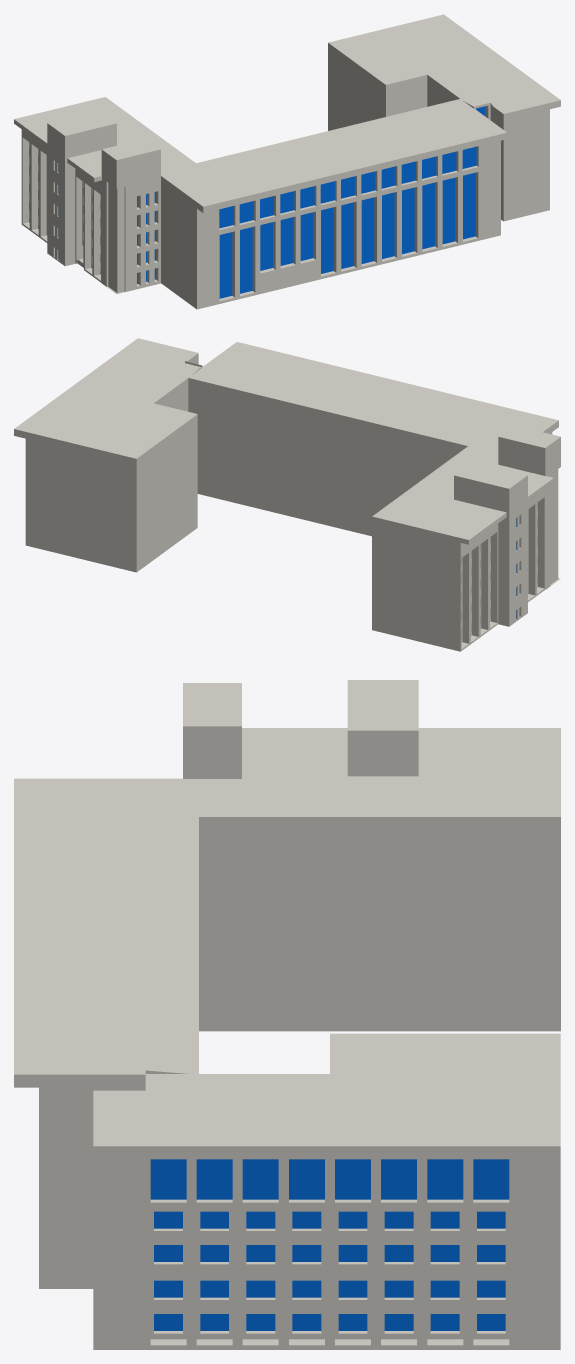
File: 2공학관.fbx
3 views of the same model, one above another, from view 1: azimuth 30°, elevation 25°; view 2: azimuth 150°, elevation 25°; view 3: azimuth 270°, elevation 25° (orthographic). The views are drawn at different scales.
Parts seen in each view (by area): view 1: Cube_8, Cube, Cube_1, Cube_54, Cube_2; view 2: Cube_8, Cube, Cube_1, Cube_2; view 3: Cube, Cube_1, Cube_8, Cube_90, Cube_2.
Part boxes in pixels (x1,y1,x2,y2): Cube_8: (161,99,507,309); Cube: (328,14,560,221); Cube_1: (14,97,196,282); Cube_54: (219,146,476,298); Cube_2: (101,138,160,294); Cube_8: (188,342,558,536); Cube: (14,338,202,572); Cube_1: (372,445,553,651); Cube_2: (498,425,560,589); Cube: (93,1033,560,1349); Cube_1: (194,680,560,1031); Cube_8: (14,778,198,1288); Cube_90: (150,1159,509,1330); Cube_2: (183,683,241,778).
Size of the model in its own units: 1386 by 413 by 762.
